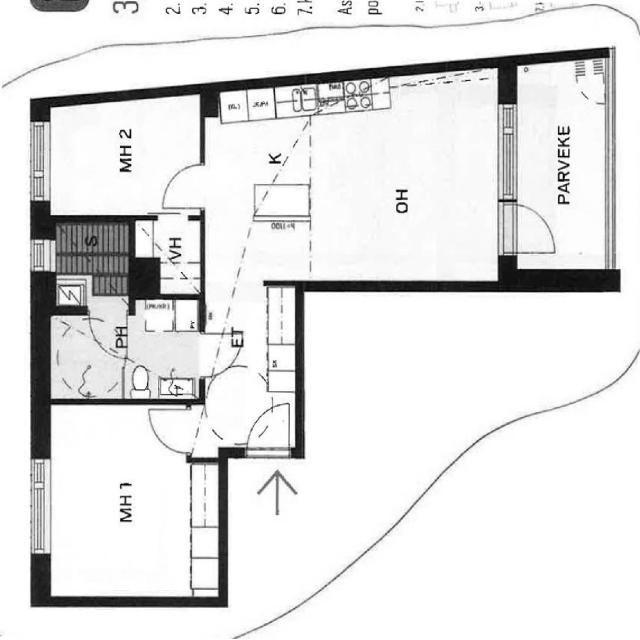door: (497, 194, 563, 257), (242, 402, 294, 458), (154, 161, 208, 212), (146, 402, 195, 458), (199, 324, 247, 376), (86, 307, 130, 360)
window: (494, 100, 530, 200), (26, 451, 54, 559), (25, 106, 54, 203), (28, 226, 48, 279)
zone: (203, 98, 503, 283), (39, 398, 219, 596), (43, 102, 202, 218), (130, 292, 207, 404), (134, 222, 207, 297)
